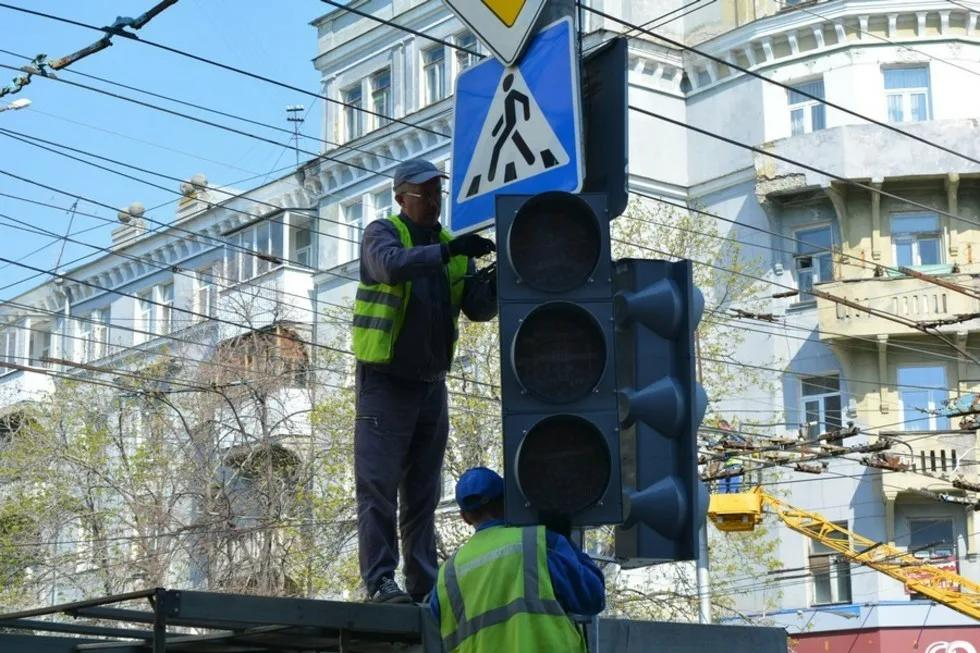obstructed_road_sign: (450, 17, 583, 233), (441, 0, 547, 66)
off traffic light: (496, 190, 621, 525), (613, 257, 711, 571)
